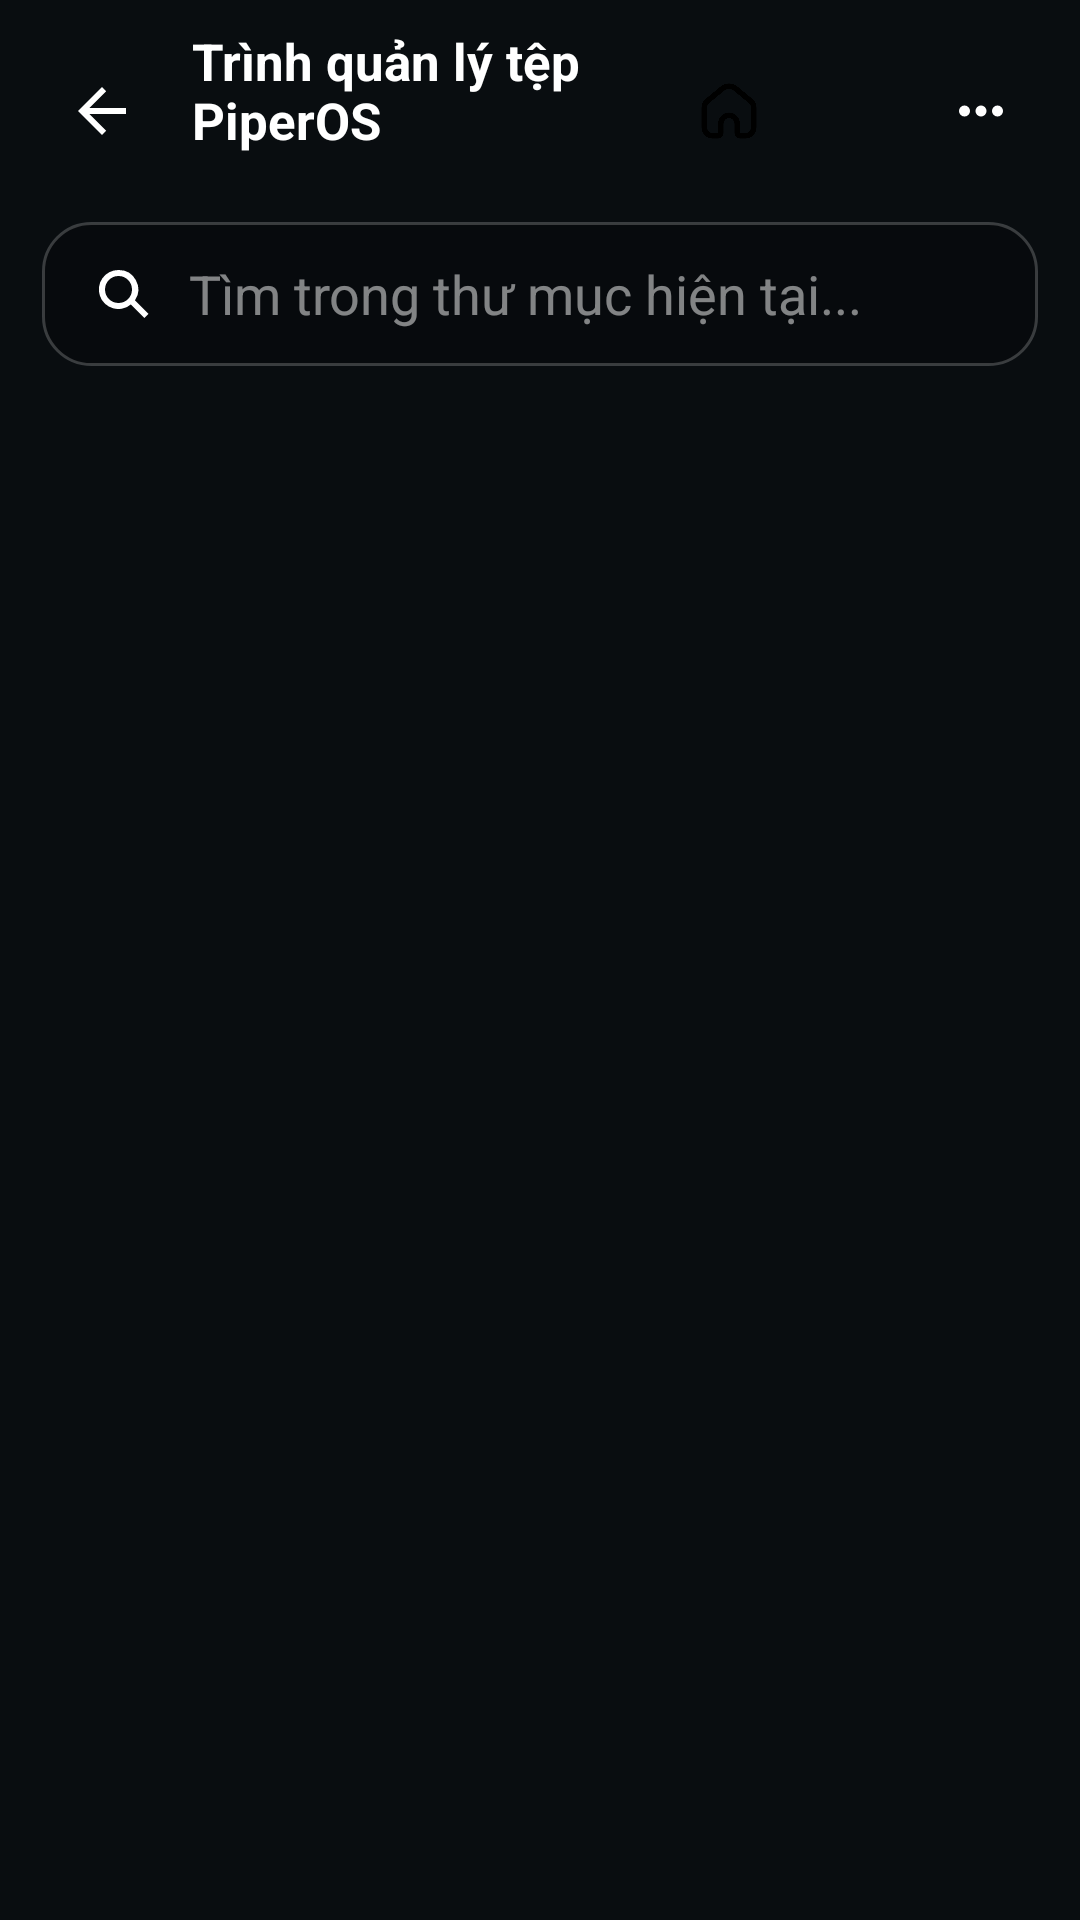

Where icons sit on this 1080px×1920px app screen, as bbox=(x1, y1, x2, y2):
Công cụ: bbox=(959, 105, 1003, 117)
Quay lại: bbox=(78, 87, 126, 135)
